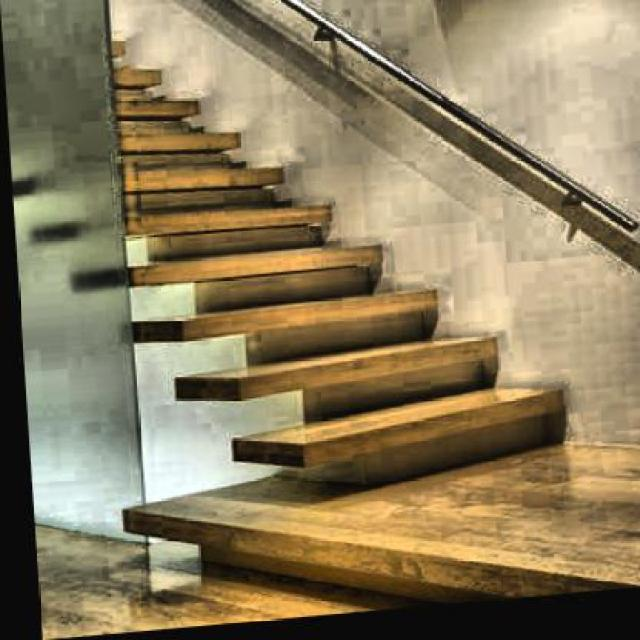stair: (29, 9, 562, 469)
